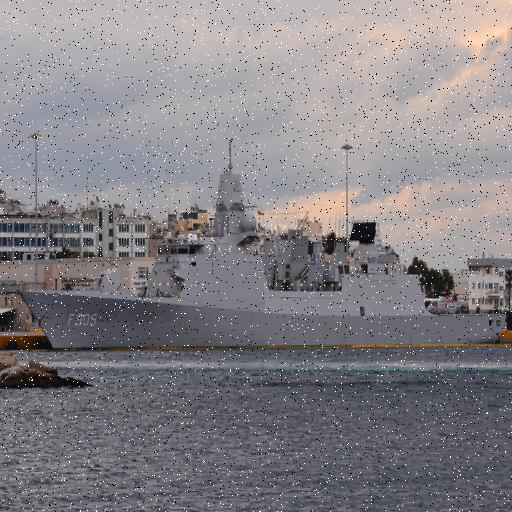Fragata: (14, 130, 512, 359)
